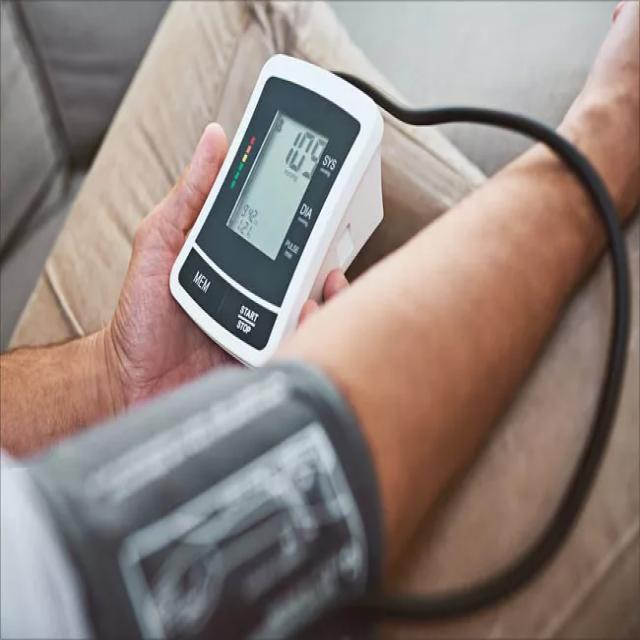ssd: (219, 110, 332, 264)
sys: (264, 117, 328, 192)
